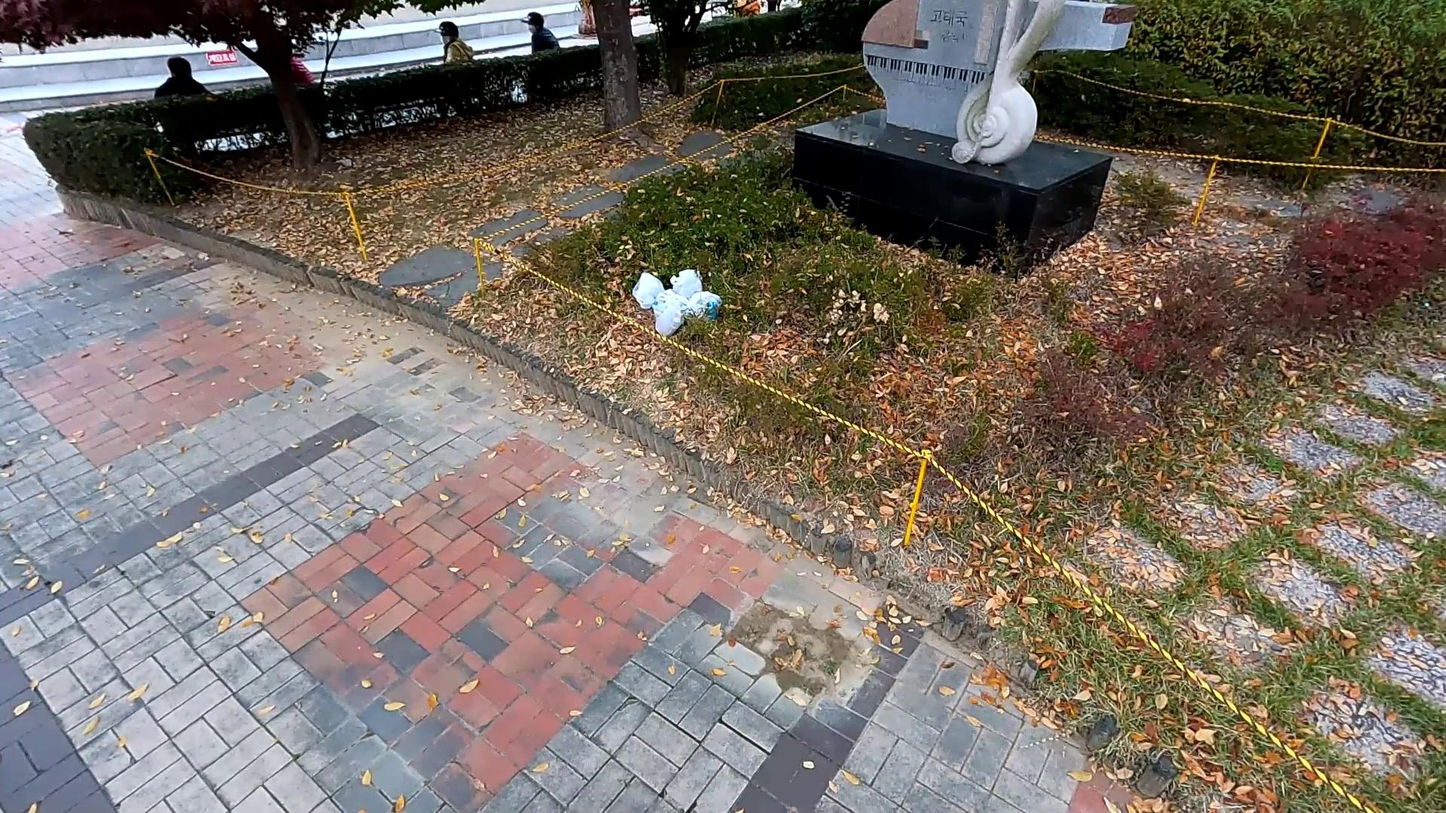person: (431, 24, 471, 68), (524, 15, 565, 52)
trash: (685, 282, 724, 332), (651, 287, 687, 333), (634, 269, 670, 310), (671, 269, 707, 300)
